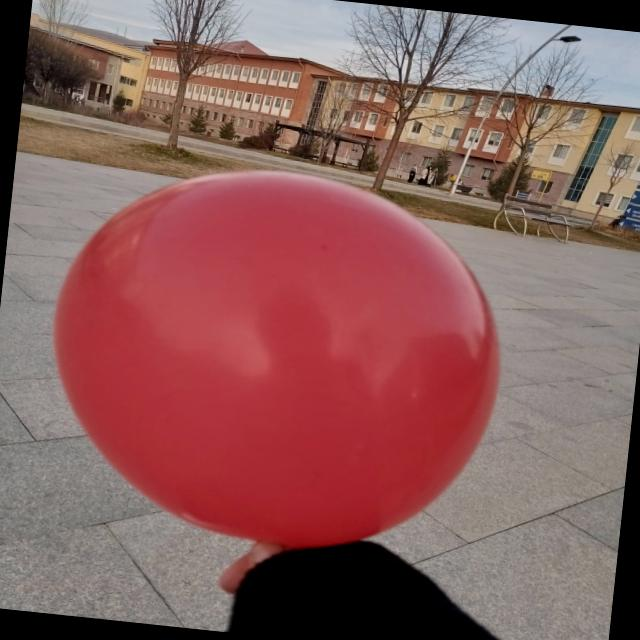balloon: (54, 171, 499, 547), (268, 314, 269, 317)
